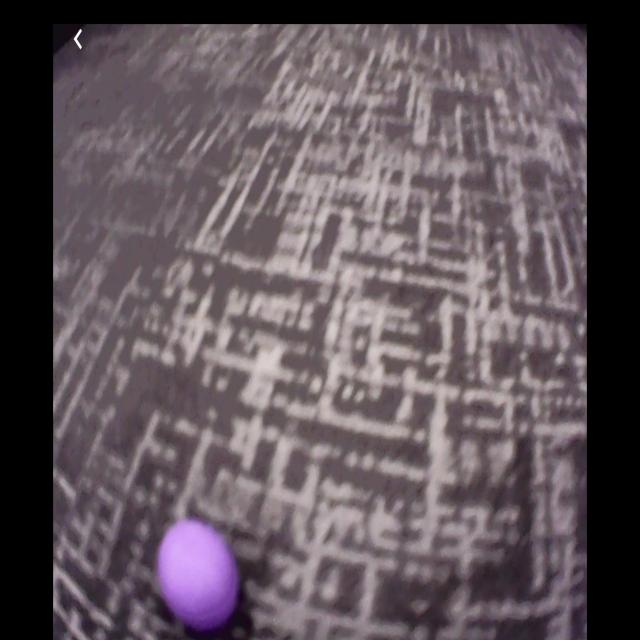ball: (157, 519, 240, 630)
